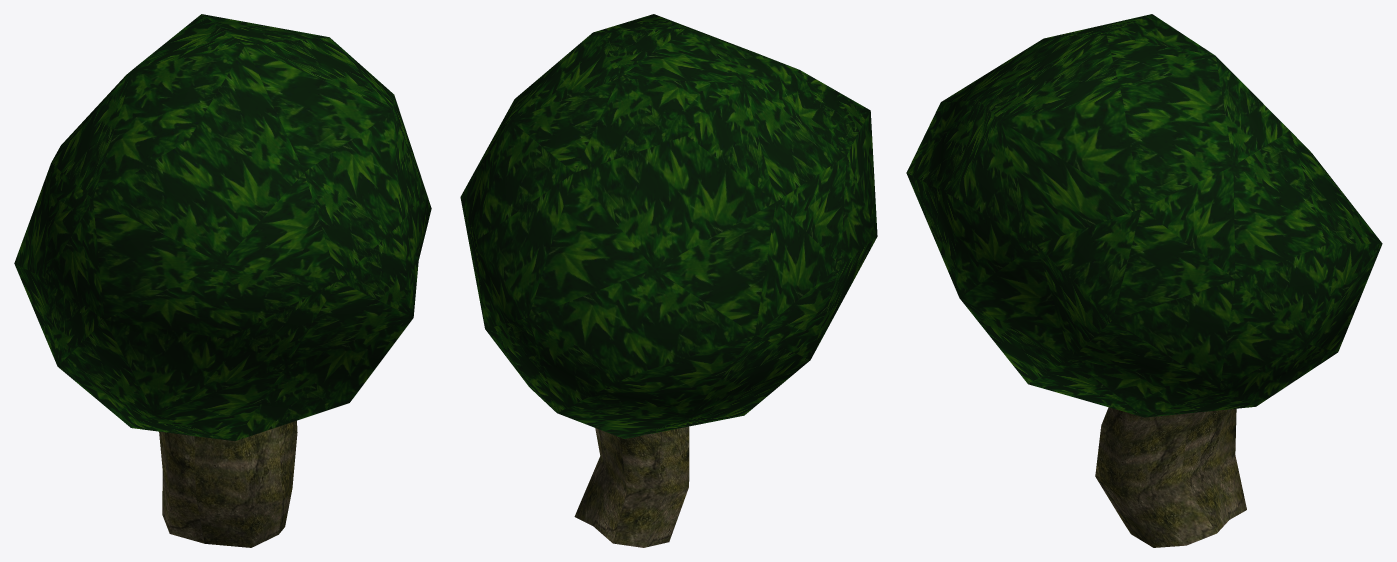
Rendered from bush1.gltf.
3 views of the same model, side by side, from view 1: azimuth 30°, elevation 25°; view 2: azimuth 150°, elevation 25°; view 3: azimuth 270°, elevation 25° (orthographic). The views are drawn at different scales.
Parts seen in each view (by area): view 1: bush, trunk; view 2: bush, trunk; view 3: bush, trunk.
Boxes of the visible parts, x1,y1,x2,y2 form: bush: (14,14,431,441); trunk: (159,420,297,547); bush: (460,14,877,438); trunk: (574,426,689,547); bush: (906,14,1382,417); trunk: (1095,407,1246,547).
Bounding box in the file's own units: 2.59 × 3.44 × 3.06.
Materials: 2 (2 with a texture image).
